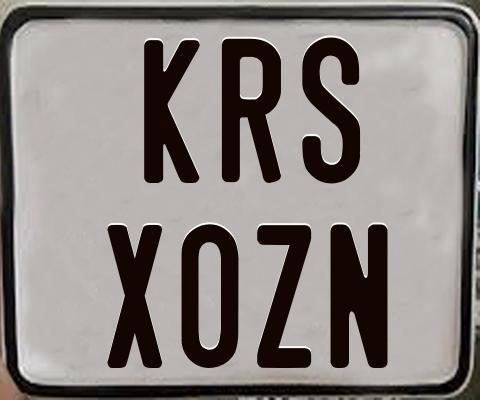0: (180, 221, 243, 370)
K: (142, 39, 204, 187)
N: (330, 222, 389, 371)
R: (219, 38, 278, 182)
S: (299, 35, 357, 185)
X: (104, 223, 160, 367)
Z: (256, 222, 316, 370)
